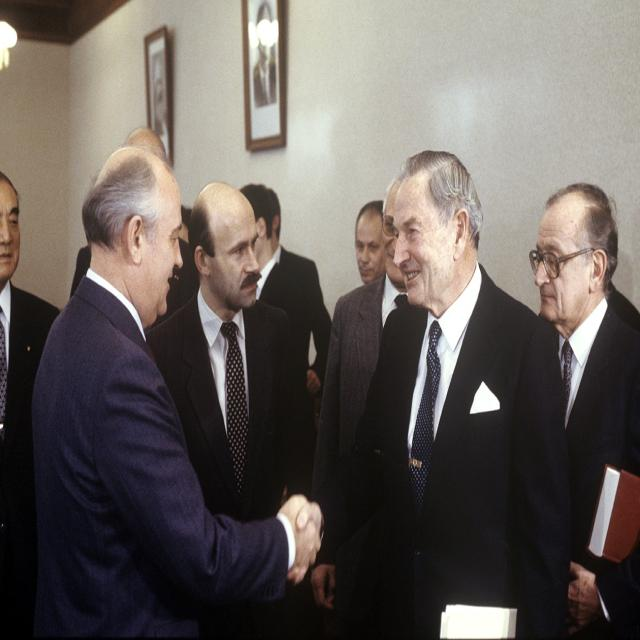body: (26, 144, 321, 640), (285, 148, 575, 640), (143, 182, 318, 503), (528, 182, 640, 640), (314, 161, 418, 616), (239, 181, 332, 518), (0, 167, 70, 536), (237, 180, 306, 366), (271, 191, 322, 291), (123, 46, 166, 152), (247, 0, 276, 110), (354, 199, 386, 285), (176, 202, 200, 302)
